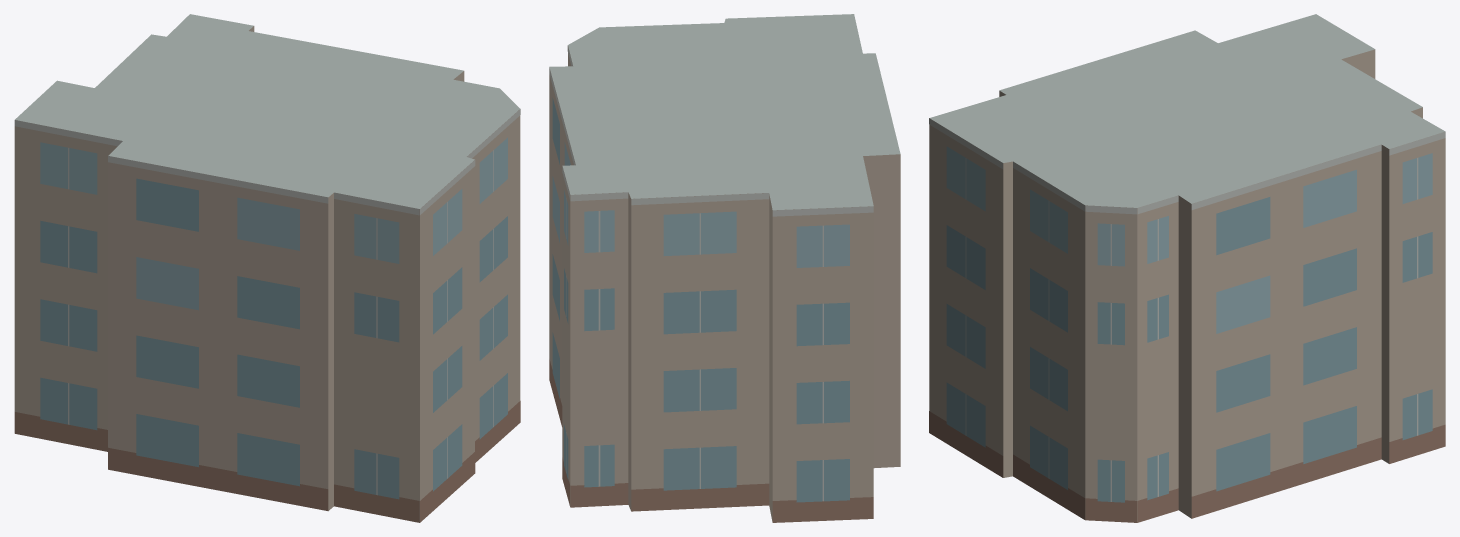
Rendered from survey-upis-32497462.glb.
The picture shows the model from 3 angles, left to right: view 1: azimuth 30°, elevation 25°; view 2: azimuth 150°, elevation 25°; view 3: azimuth 270°, elevation 25°; orthographic projection.
Visible parts, largest first — view 1: survey-upis-32497462.tmp; view 2: survey-upis-32497462.tmp; view 3: survey-upis-32497462.tmp.
Boxes of the visible parts, x1,y1,x2,y2 form: survey-upis-32497462.tmp: (14,14,520,522); survey-upis-32497462.tmp: (549,14,900,522); survey-upis-32497462.tmp: (929,14,1445,522).
Size of the model in its own units: 15.8 by 11.95 by 17.77.
